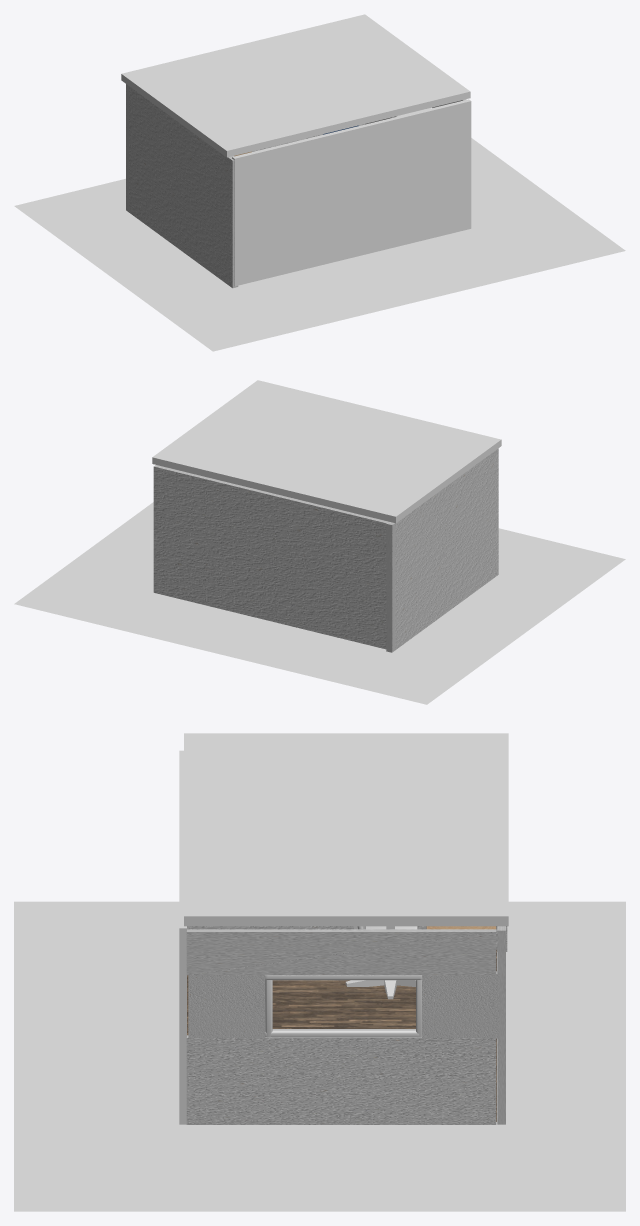
Rendered from mijnkamer.FBX.
The picture shows the model from 3 angles, top to bottom: view 1: azimuth 30°, elevation 25°; view 2: azimuth 150°, elevation 25°; view 3: azimuth 270°, elevation 25°; orthographic projection. The views are drawn at different scales.
Visible parts, largest first — view 1: Plane003, Box003, Box011, Box004, Box002; view 2: Plane003, Box002, Box011, Box004; view 3: Plane003, Box011, Box001, Box008, Vloer, Box009, Box010, Box003, Box002, ChamferBox007, ChamferBox008, Box004.
Boxes of the visible parts, x1,y1,x2,y2 form: Plane003: [14, 108, 625, 351]; Box003: [232, 99, 471, 286]; Box011: [121, 14, 470, 157]; Box004: [126, 84, 238, 288]; Box002: [126, 84, 364, 210]; Plane003: [14, 502, 625, 704]; Box002: [153, 465, 395, 650]; Box011: [152, 380, 501, 523]; Box004: [386, 448, 498, 652]; Plane003: [14, 901, 625, 1211]; Box011: [184, 733, 508, 926]; Box001: [186, 1035, 496, 1124]; Box008: [186, 929, 496, 975]; Vloer: [187, 949, 496, 1121]; Box009: [422, 971, 499, 1038]; Box010: [188, 975, 265, 1037]; Box003: [179, 750, 186, 1124]; Box002: [497, 926, 505, 1124]; ChamferBox007: [265, 1030, 419, 1037]; ChamferBox008: [265, 975, 421, 980]; Box004: [187, 926, 507, 951].
Size of what is drawn, in the model's own units: 609 by 202 by 508.
Materials: 5 (5 with a texture image).
